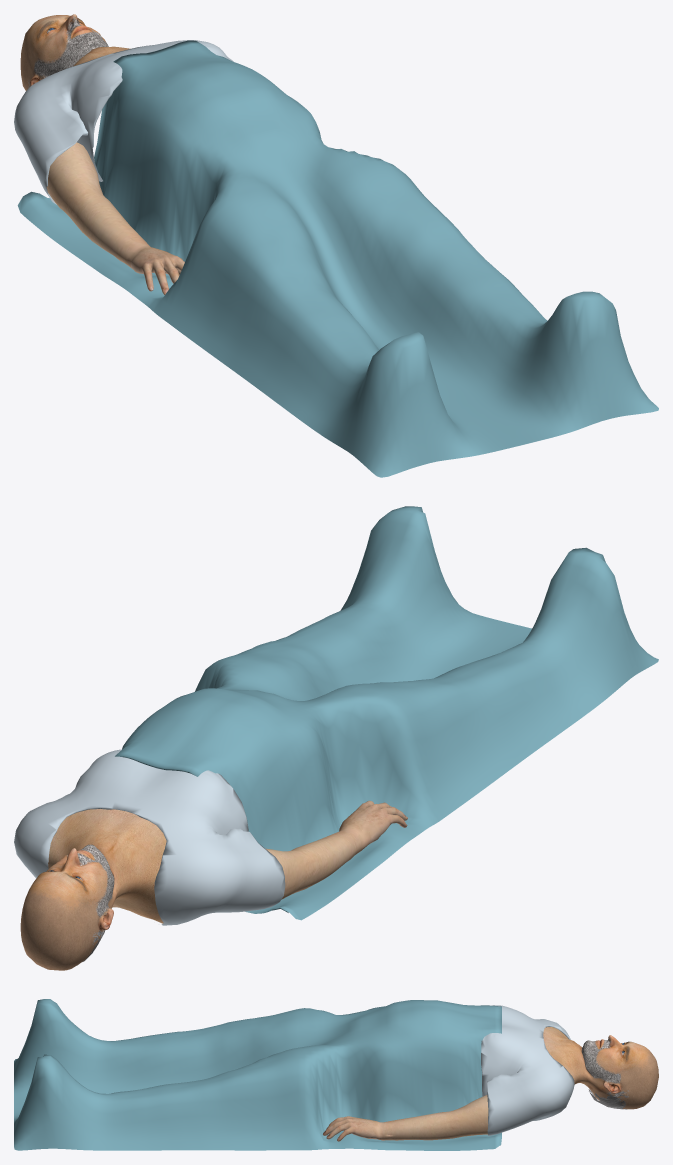
3 renders of one model, top to bottom at view 1: azimuth 30°, elevation 25°; view 2: azimuth 150°, elevation 25°; view 3: azimuth 270°, elevation 25°, orthographic. The views are drawn at different scales.
Parts seen in each view (by area): view 1: sheet, gown, arms, body; view 2: sheet, gown, body, arms; view 3: sheet, gown, body, arms, hair.
Boxes of the visible parts, x1=… form: sheet: x1=17, y1=40, x2=658, y2=477; gown: x1=14, y1=40, x2=233, y2=204; arms: x1=46, y1=142, x2=184, y2=294; body: x1=20, y1=14, x2=130, y2=90; sheet: x1=115, y1=506, x2=658, y2=920; gown: x1=14, y1=749, x2=285, y2=925; body: x1=20, y1=809, x2=166, y2=970; arms: x1=265, y1=800, x2=407, y2=899; sheet: x1=14, y1=999, x2=501, y2=1150; gown: x1=481, y1=1005, x2=574, y2=1135; body: x1=543, y1=1027, x2=658, y2=1109; arms: x1=323, y1=1095, x2=488, y2=1141; hair: x1=588, y1=1073, x2=628, y2=1109.
Bounding box in the file's own units: 0.6454 × 0.3244 × 1.91.
8 materials, 6 textured.
